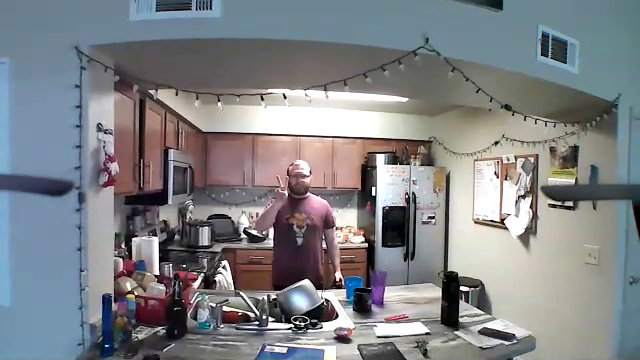peace: (269, 170, 294, 204)
